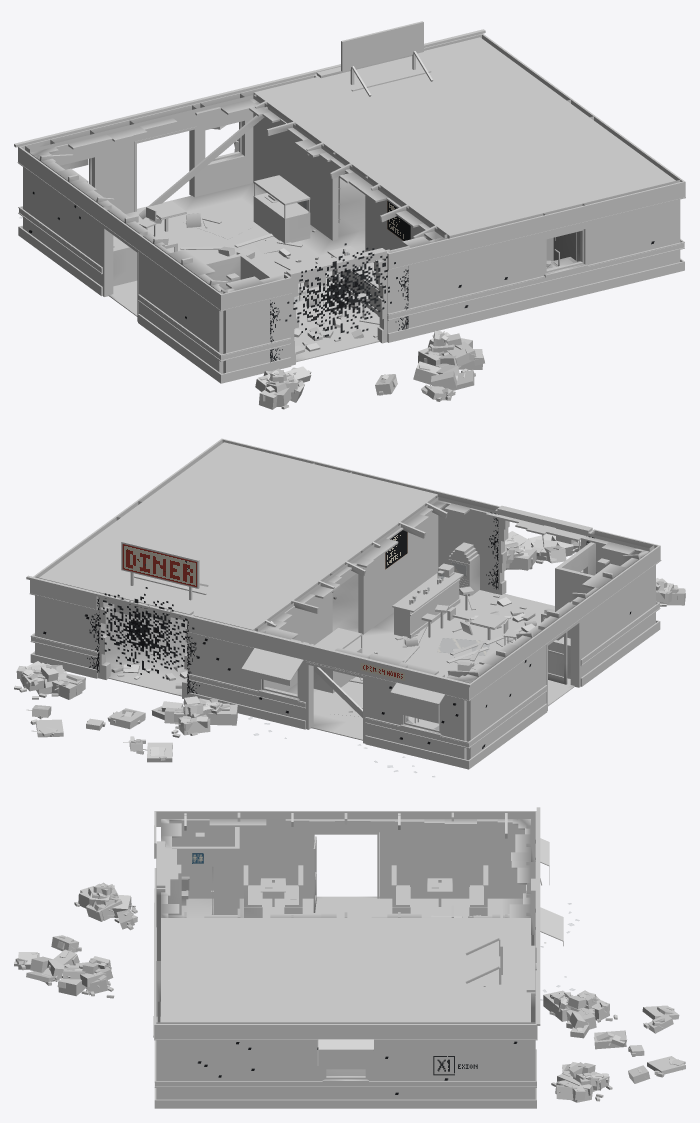
Rendered from diner.glb.
The picture shows the model from 3 angles, top to bottom: view 1: azimuth 30°, elevation 25°; view 2: azimuth 150°, elevation 25°; view 3: azimuth 270°, elevation 25°; orthographic projection. The views are drawn at different scales.
Parts seen in each view (by area): view 1: diner; view 2: diner; view 3: diner.
Boxes of the visible parts, box(x1,y1,x2,y2) form: diner: box(14, 21, 685, 409); diner: box(14, 438, 685, 776); diner: box(14, 807, 685, 1108).
Bounding box in the file's own units: 16.91 × 4.62 × 21.79.
4 materials, 3 textured.
